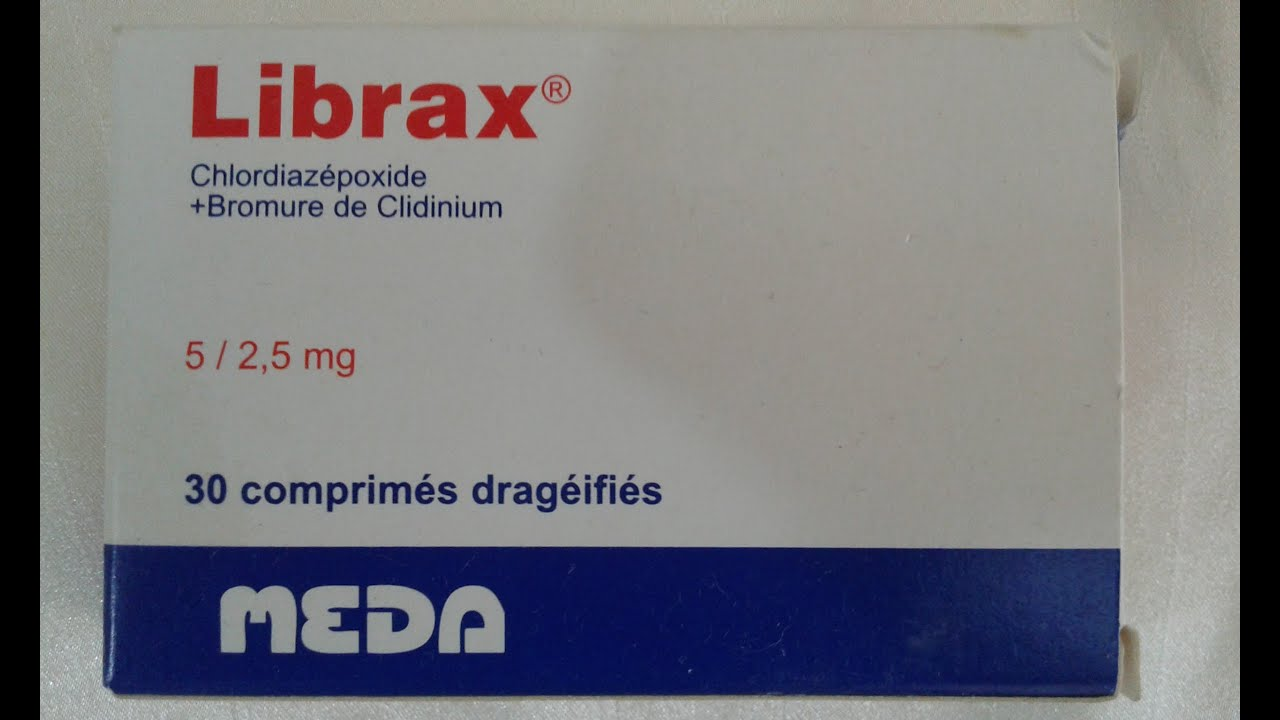Medicine: (98, 16, 1130, 702)
